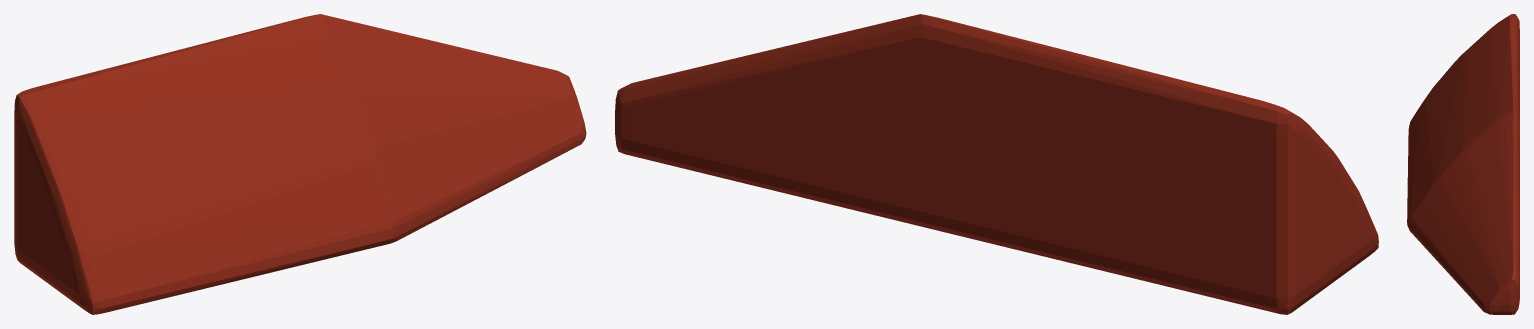
File: left_shoulder_pitch_link_part_15.obj
3 renders of one model, left to right at view 1: azimuth 30°, elevation 25°; view 2: azimuth 150°, elevation 25°; view 3: azimuth 270°, elevation 25°, orthographic. The views are drawn at different scales.
Size of the model in its own units: 0.0581 by 0.0174 by 0.0147.
